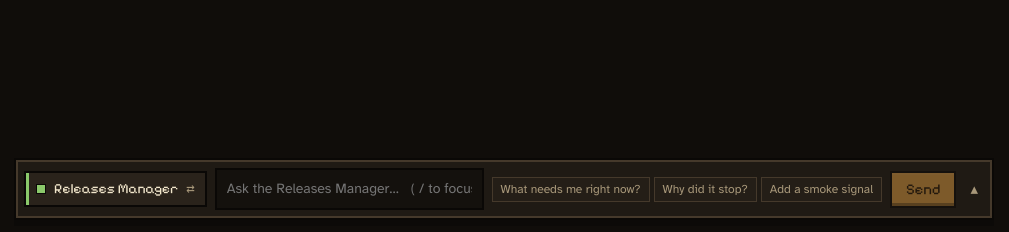
Asking a manager › puts a suggestion in the box for you to edit before sending
What coordinates should you click on to do the following:
click the button "Add a smoke signal"
I would click on:
 (821, 189)
Its box is [761,177,882,202].
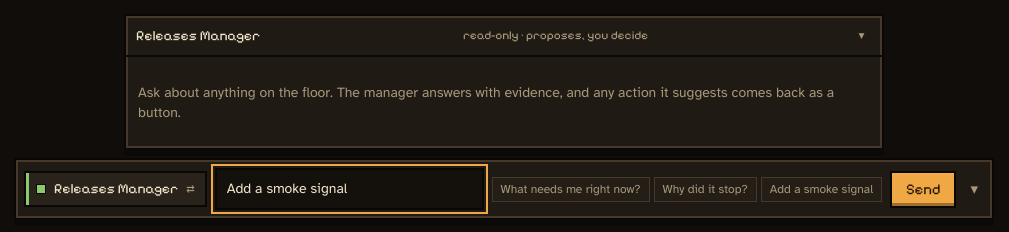
Now the field named "Message the Releases Manager" holds "Add a smoke signal", box [215,168,484,210]
